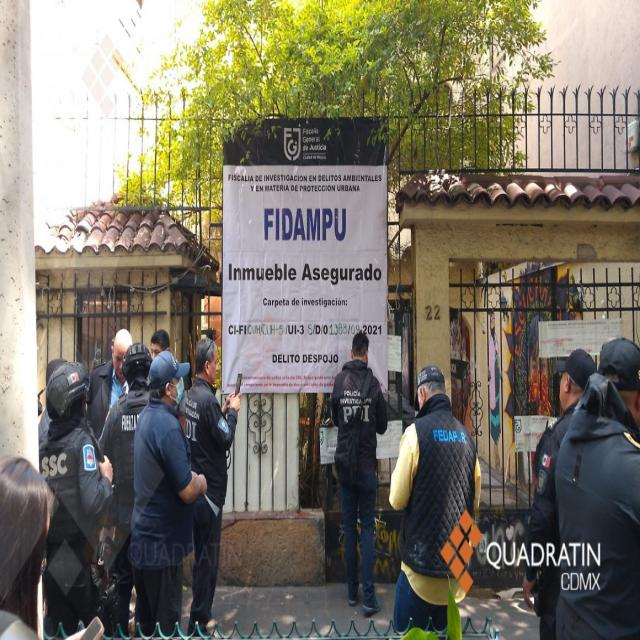stamps: (222, 122, 386, 394)
